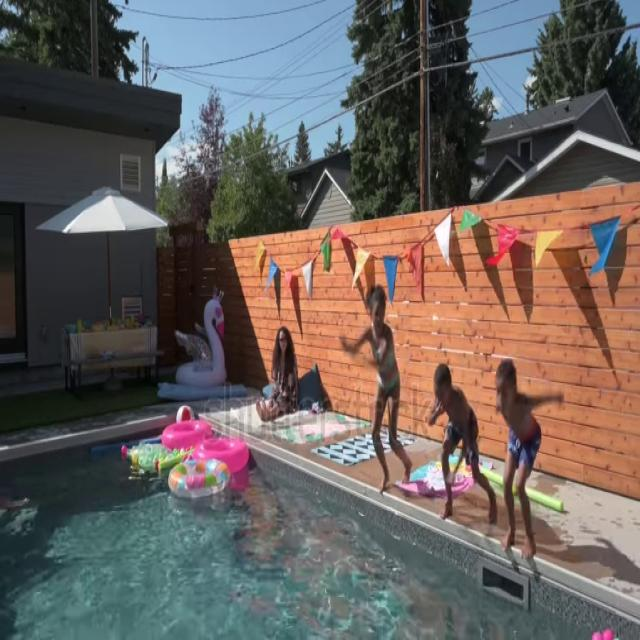adult: (255, 324, 298, 420)
child: (338, 284, 414, 493), (492, 357, 565, 560), (427, 362, 498, 530)
